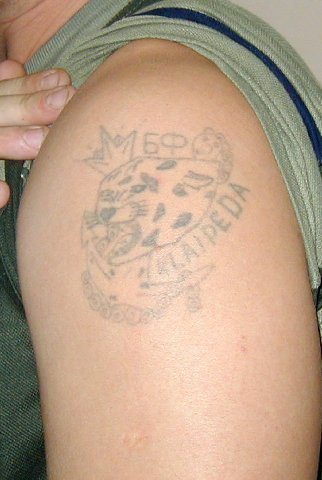tatu3_bukva: (162, 186, 257, 265), (142, 127, 189, 158)
tatu5_tigr: (88, 161, 217, 252)
